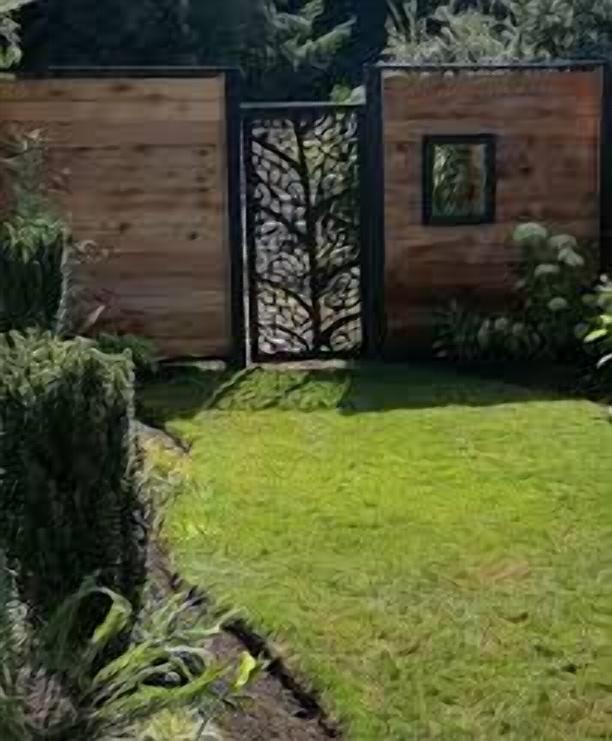Gate: (232, 99, 372, 363)
Window-with-grill: (424, 143, 487, 221)
